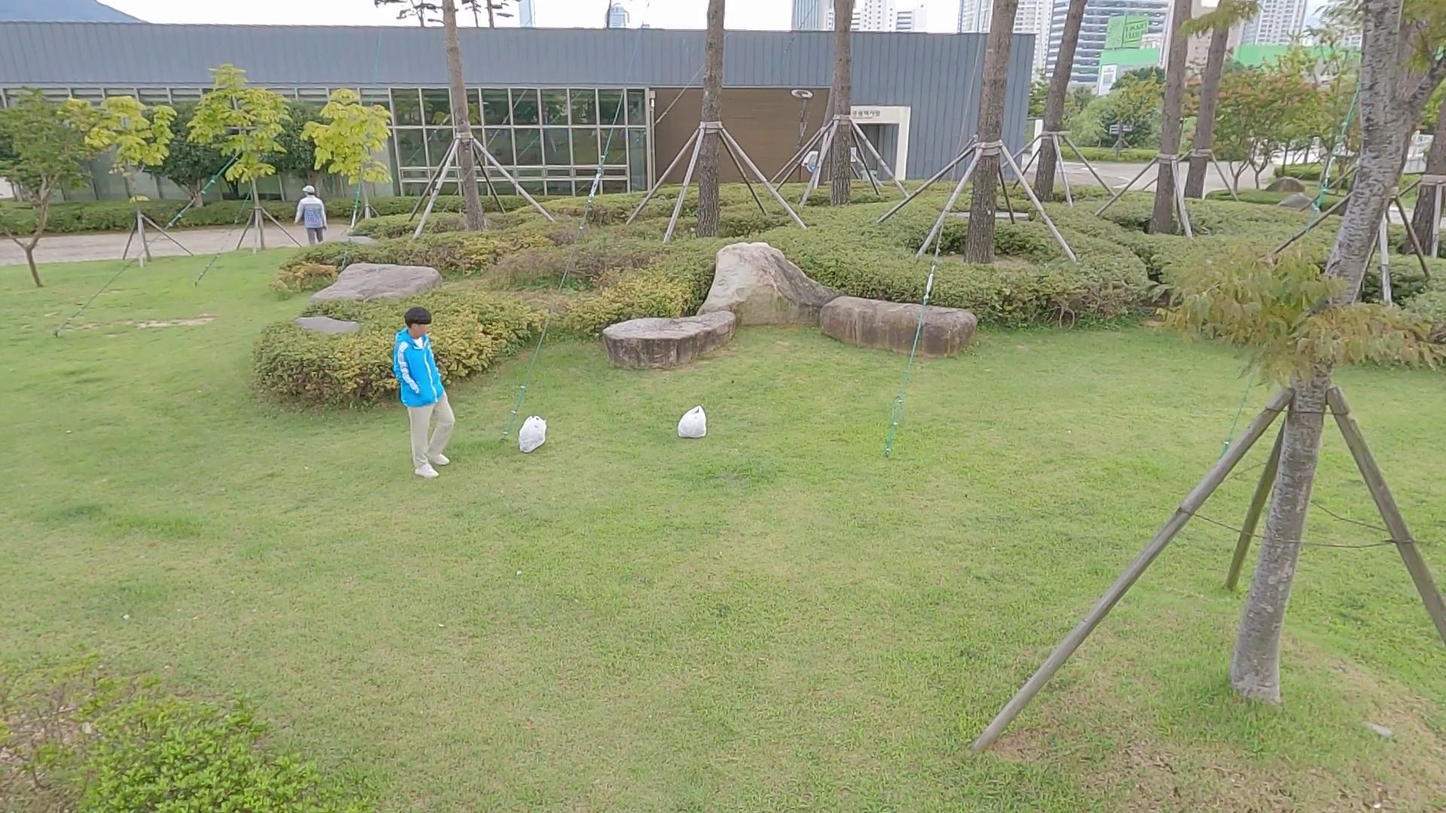person: (394, 305, 457, 480), (294, 185, 329, 250)
trash: (516, 416, 549, 453), (677, 403, 709, 439)
